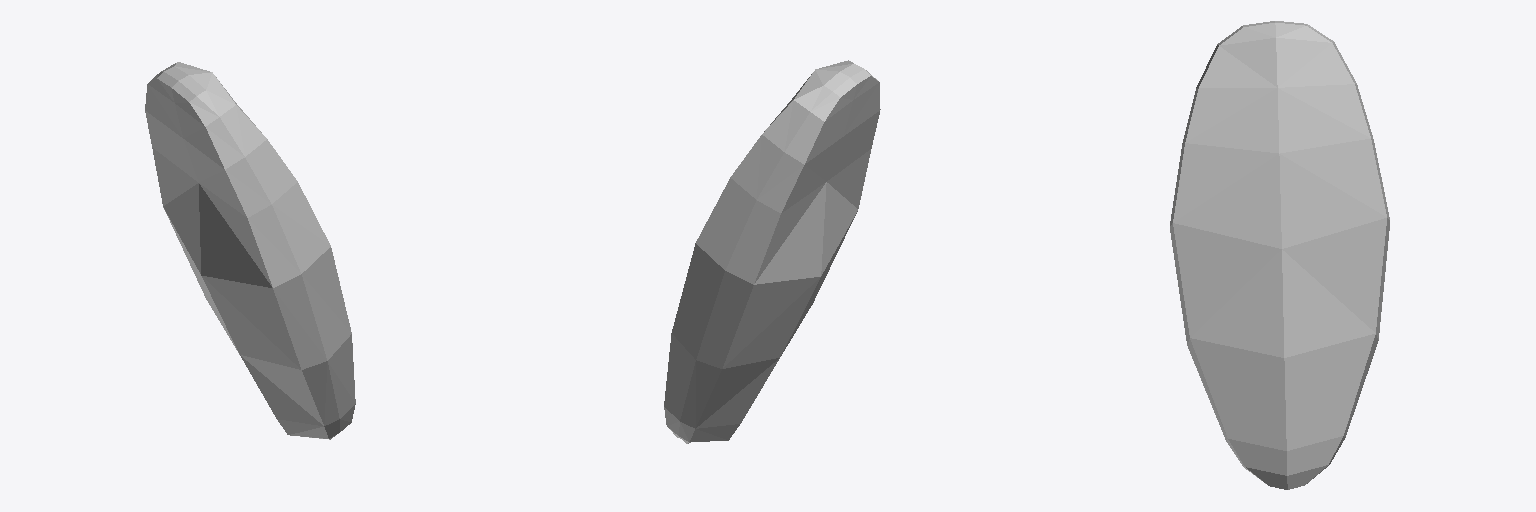
The model's file is aleta_de.obj.
3 views of the same model, side by side, from view 1: azimuth 30°, elevation 25°; view 2: azimuth 150°, elevation 25°; view 3: azimuth 270°, elevation 25° (orthographic).
Parts seen in each view (by area): view 1: Cube; view 2: Cube; view 3: Cube.
Boxes of the visible parts, x1,y1,x2,y2 form: Cube: [145, 62, 355, 439]; Cube: [664, 60, 880, 443]; Cube: [1170, 21, 1389, 489].
Size of the model in its own units: 0.2218 by 0.4866 by 0.244.